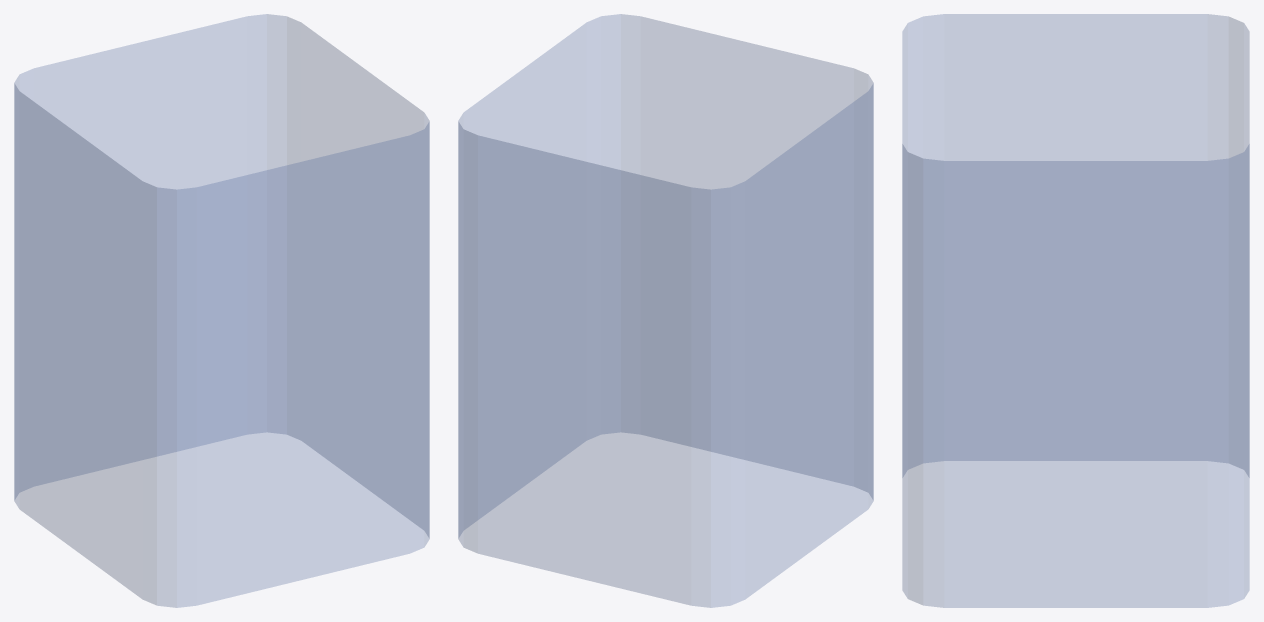
The model's file is tile_lock.gltf.
3 views of the same model, side by side, from view 1: azimuth 30°, elevation 25°; view 2: azimuth 150°, elevation 25°; view 3: azimuth 270°, elevation 25° (orthographic). The views are drawn at different scales.
Parts seen in each view (by area): view 1: Plane.058; view 2: Plane.058; view 3: Plane.058.
Part boxes in pixels (box(x1,y1,x2,y2)): Plane.058: box(14, 14, 429, 607); Plane.058: box(458, 14, 873, 607); Plane.058: box(902, 14, 1249, 607).
Bounding box in the file's own units: 1.87 × 2.66 × 1.87.
